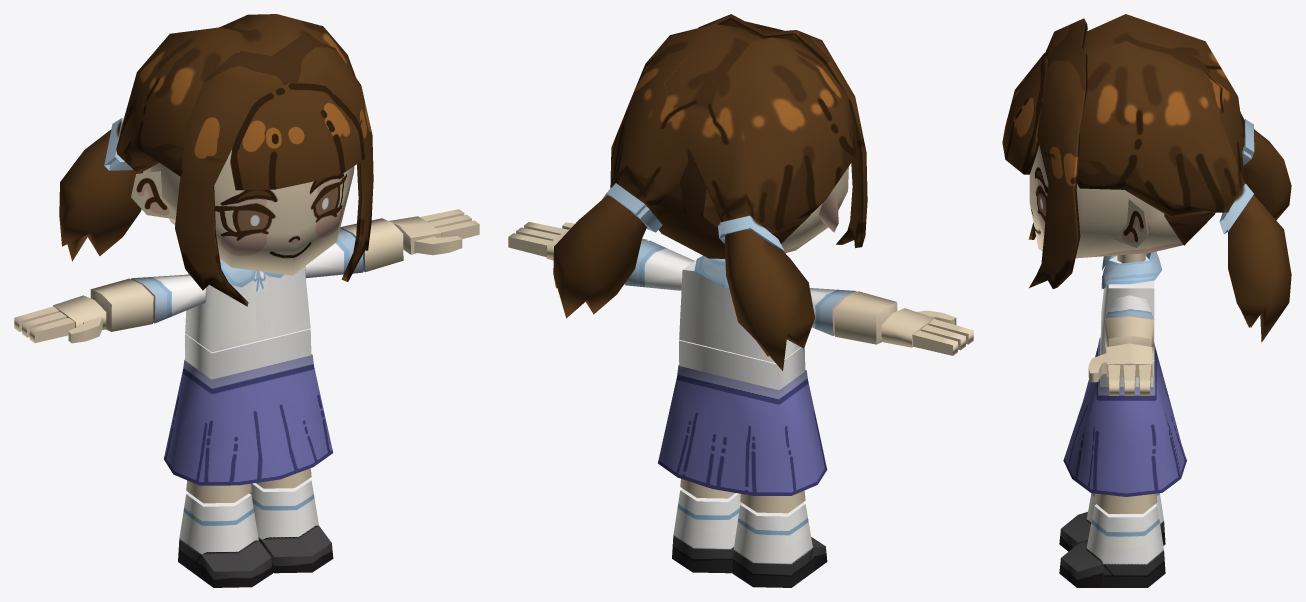
File: defaultgirl.fbx
The picture shows the model from 3 angles, left to right: view 1: azimuth 30°, elevation 25°; view 2: azimuth 150°, elevation 25°; view 3: azimuth 270°, elevation 25°; orthographic projection.
Visible parts, largest first — view 1: v1.6 kid base.002, Girl Hair, head; view 2: Girl Hair, v1.6 kid base.002, head; view 3: Girl Hair, v1.6 kid base.002, head.
Part boxes in pixels (<box>): v1.6 kid base.002: <box>14,209,479,587</box>; Girl Hair: <box>59,14,373,306</box>; head: <box>131,150,354,275</box>; Girl Hair: <box>553,14,867,370</box>; v1.6 kid base.002: <box>508,222,973,587</box>; head: <box>781,167,848,252</box>; Girl Hair: <box>1002,14,1291,342</box>; v1.6 kid base.002: <box>1059,251,1186,587</box>; head: <box>1029,145,1182,258</box>.
Bounding box in the file's own units: 3.53 × 4.05 × 2.
Materials: 3 (3 with a texture image).
